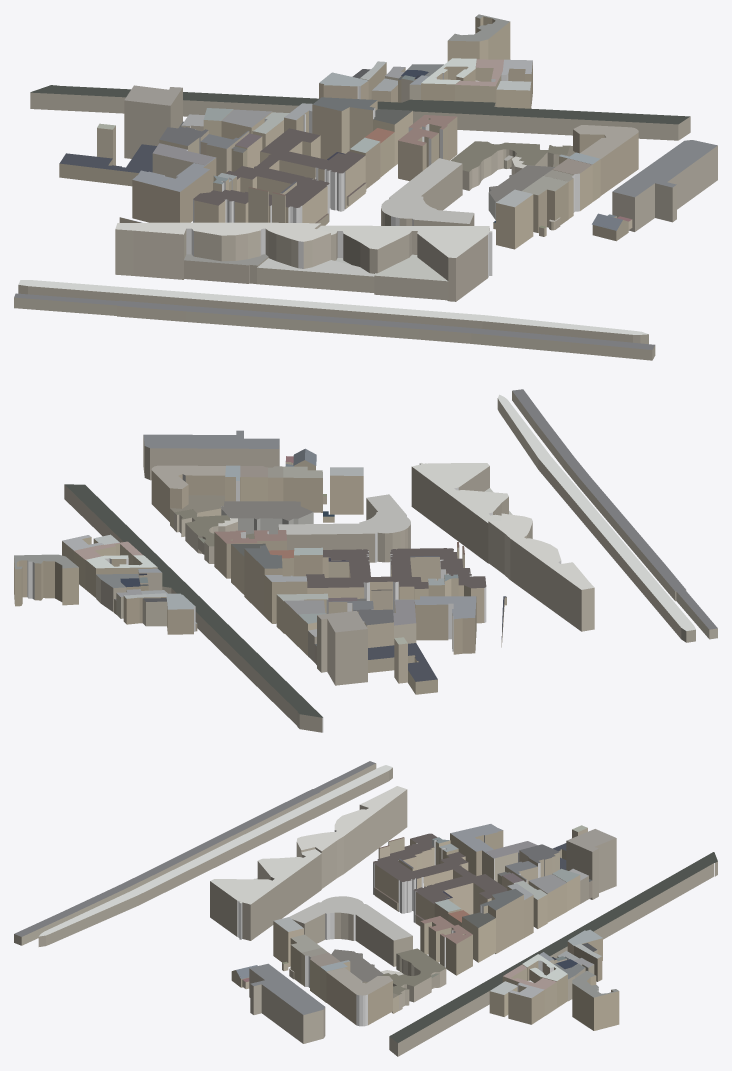
3 views of the same model, one above another, from view 1: azimuth 30°, elevation 25°; view 2: azimuth 150°, elevation 25°; view 3: azimuth 270°, elevation 25° (orthographic). The views are drawn at different scales.
Visible parts, largest first — view 1: tuile; view 2: tuile; view 3: tuile.
Part boxes in pixels (left/top/right/bottom): tuile: left=14, top=14, right=717, bottom=360; tuile: left=14, top=389, right=717, bottom=732; tuile: left=14, top=761, right=717, bottom=1056.
Bounding box in the file's own units: 413 × 33.89 × 436.
